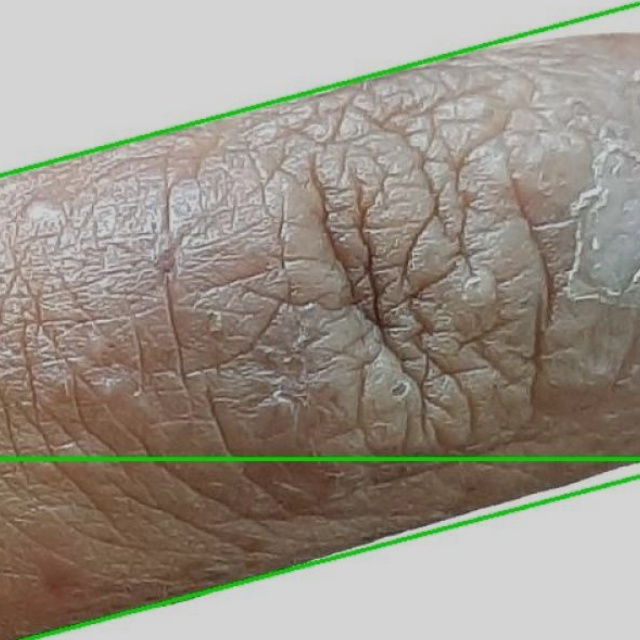Eczema: (0, 5, 639, 639), (0, 458, 639, 639)
